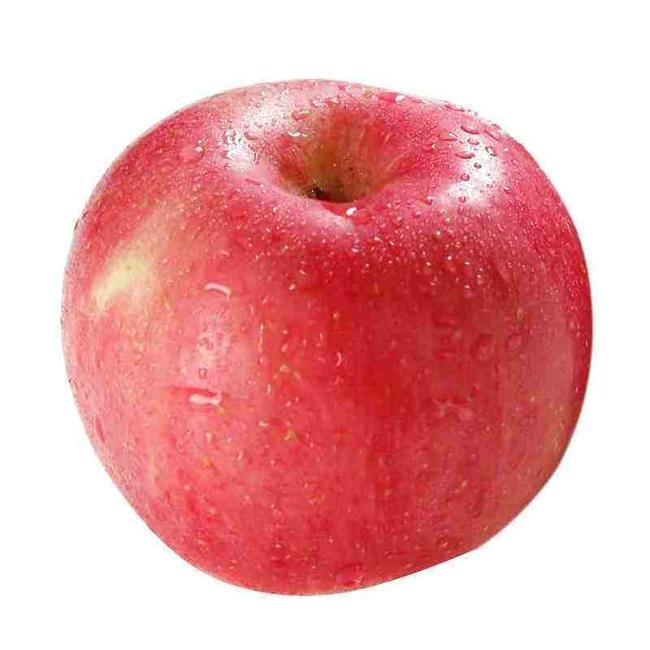apple: (55, 72, 593, 593)
